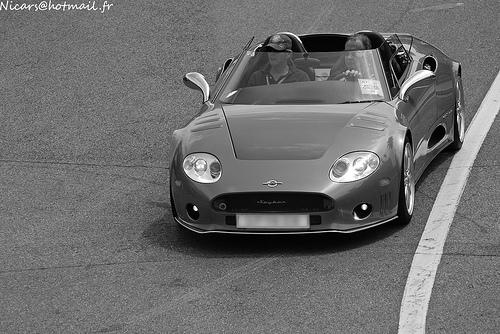car: (165, 30, 466, 249)
